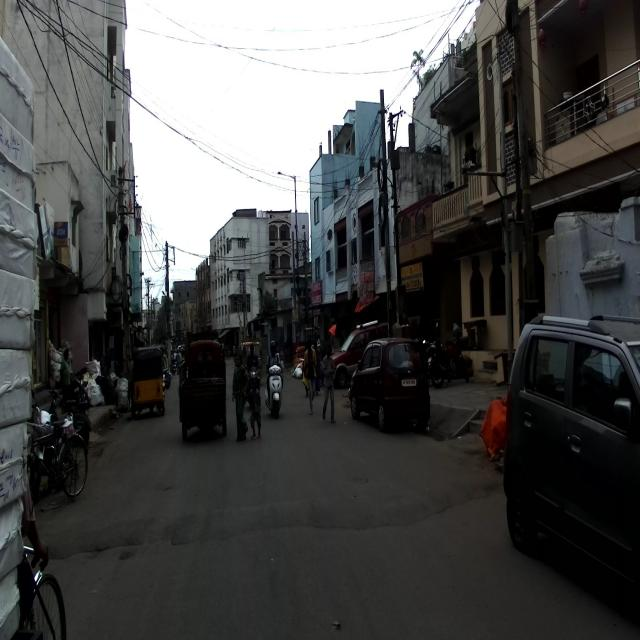autorickshaw: (178, 331, 227, 439)
car: (502, 313, 638, 597), (347, 335, 430, 433)
scooter: (264, 360, 285, 418)
